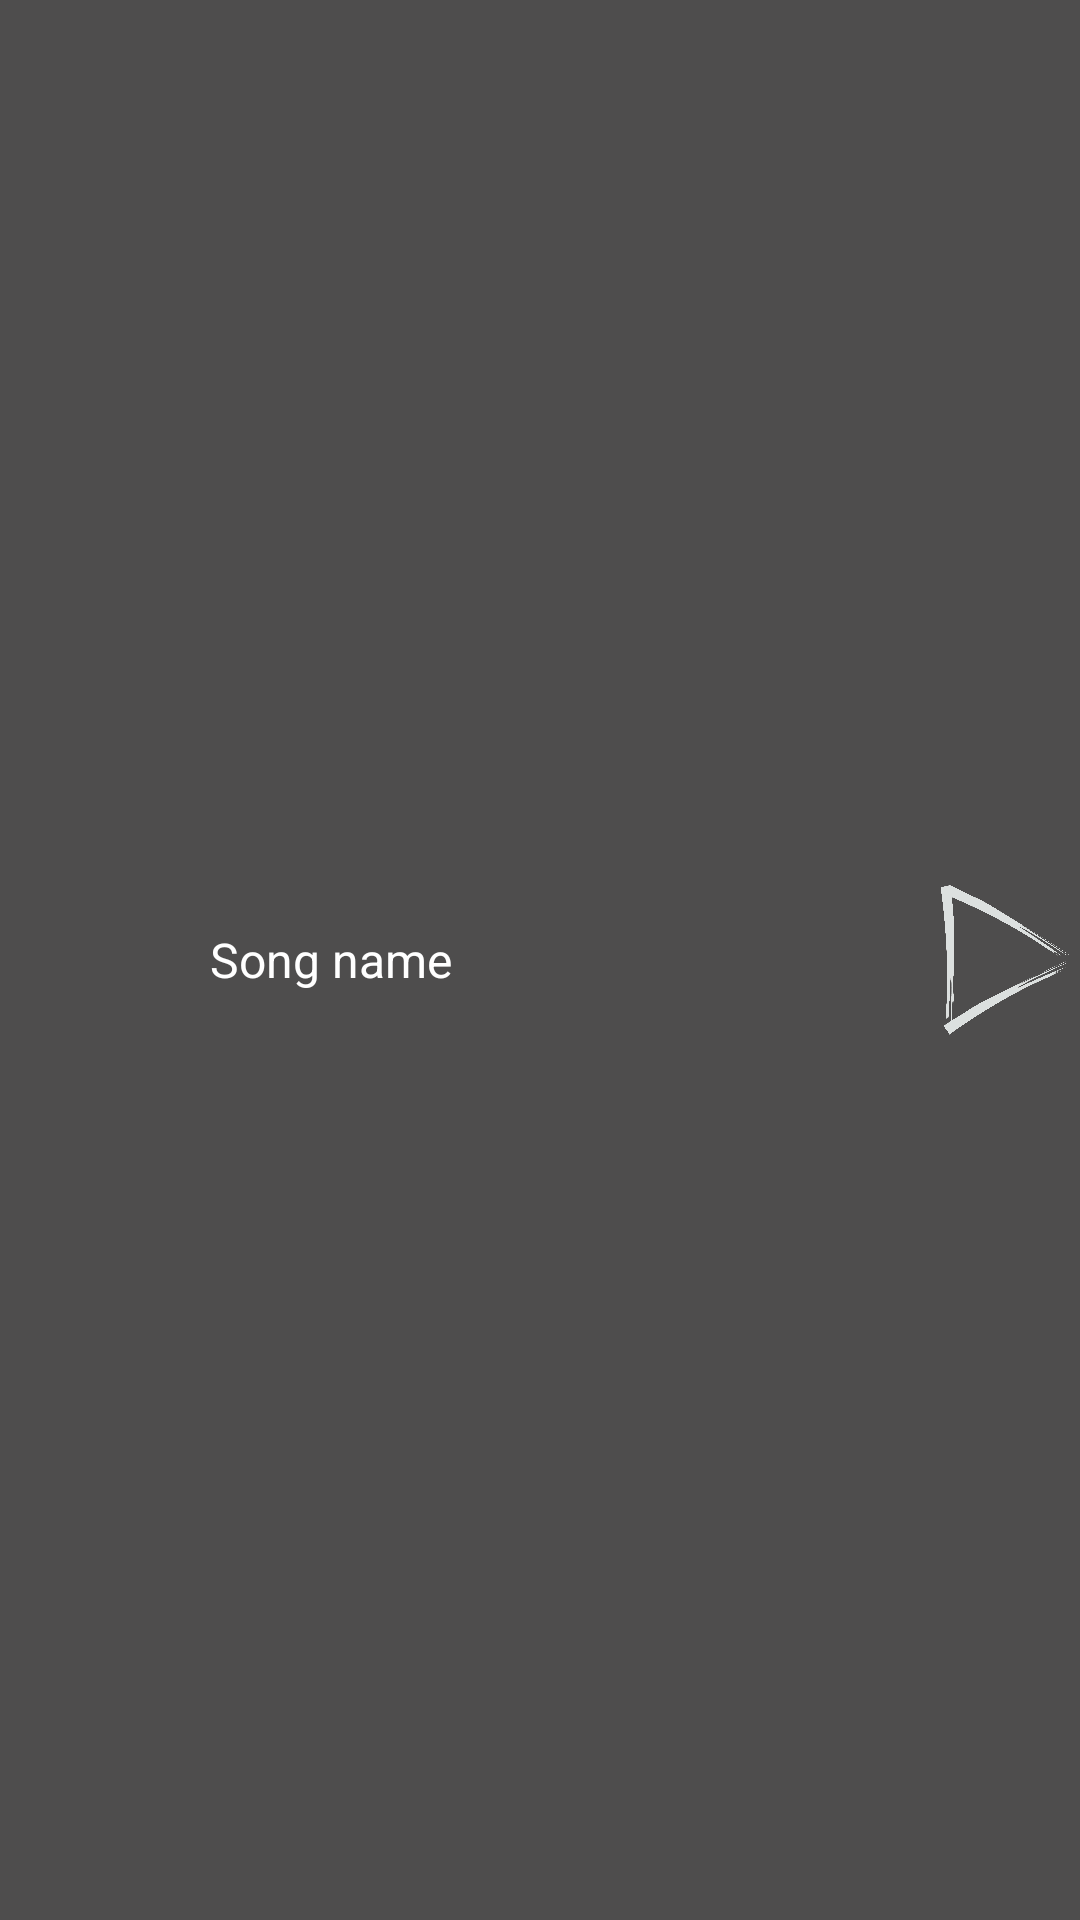

Icons on this 1080 x 1920 Android screen, each with its box as {"left": x1, "top": y1, "right": x2, "bottom": y2}:
play: {"left": 941, "top": 885, "right": 1069, "bottom": 1035}
